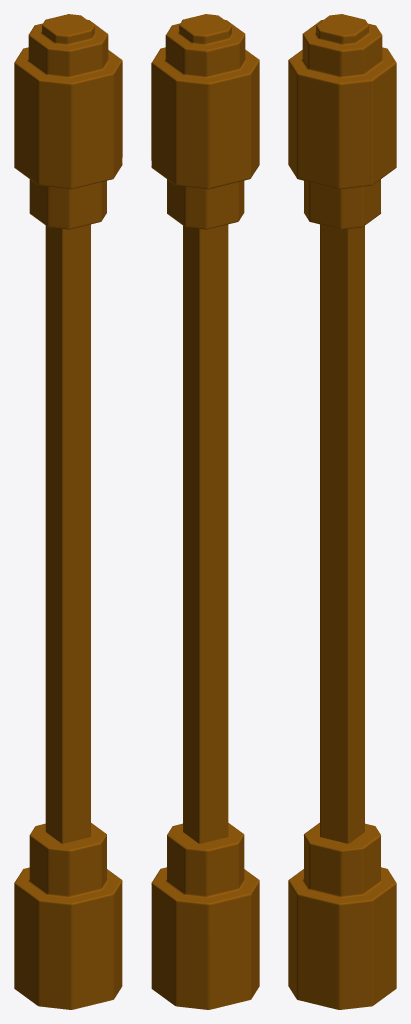
Rendered from Construction_Light_02_Light.fbx.
3 views of the same model, side by side, from view 1: azimuth 30°, elevation 25°; view 2: azimuth 210°, elevation 25°; view 3: azimuth 330°, elevation 25° (orthographic).
Parts seen in each view (by area): view 1: Construction_Lamp_02_Tube_Light; view 2: Construction_Lamp_02_Tube_Light; view 3: Construction_Lamp_02_Tube_Light.
Boxes of the visible parts, x1,y1,x2,y2 form: Construction_Lamp_02_Tube_Light: (14, 14, 122, 1009); Construction_Lamp_02_Tube_Light: (151, 14, 259, 1009); Construction_Lamp_02_Tube_Light: (288, 14, 396, 1009).
Bounding box in the file's own units: 12.52 × 136 × 12.52.
